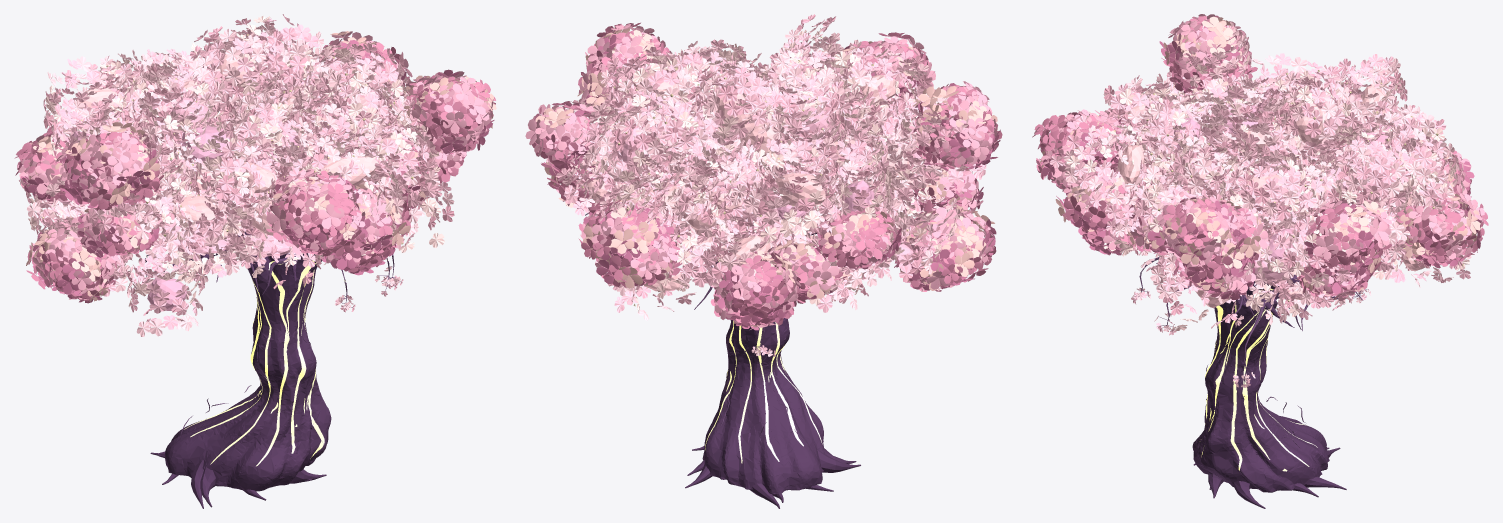
File: sakura_hero_r18a.glb
3 renders of one model, left to right at view 1: azimuth 30°, elevation 25°; view 2: azimuth 150°, elevation 25°; view 3: azimuth 270°, elevation 25°, orthographic. The views are drawn at different scales.
Parts seen in each view (by area): view 1: Sakura_petal_pink, R17b_outer_quality, Sakura_petal_blush, Trunk_bark_plumblack, Sakura_petal_warm_rose, Sakura_petal_cream, R17b_skirt_quality, R17b_bridge_quality, Canopy_peach, R18a_Surface_Gold_Inlays_quality, Canopy_depth_rose, Canopy_rose (+1 smaller); view 2: R17b_outer_quality, Sakura_petal_pink, Sakura_petal_blush, Trunk_bark_plumblack, Sakura_petal_warm_rose, Sakura_petal_cream, R17b_bridge_quality, Canopy_peach, R17b_skirt_quality, R18a_Surface_Gold_Inlays_quality, Canopy_rose, Canopy_depth_rose; view 3: Sakura_petal_pink, Sakura_petal_blush, R17b_outer_quality, Trunk_bark_plumblack, Sakura_petal_warm_rose, Sakura_petal_cream, R17b_bridge_quality, Canopy_peach, R17b_skirt_quality, R18a_Surface_Gold_Inlays_quality, Canopy_depth_rose, Branches_plum (+1 smaller).
Part boxes in pixels (bbox=[...]): Sakura_petal_pink: bbox=[19, 14, 451, 327]; R17b_outer_quality: bbox=[14, 31, 496, 295]; Sakura_petal_blush: bbox=[26, 23, 454, 336]; Trunk_bark_plumblack: bbox=[150, 232, 331, 508]; Sakura_petal_warm_rose: bbox=[31, 18, 454, 329]; Sakura_petal_cream: bbox=[28, 15, 453, 306]; R17b_skirt_quality: bbox=[61, 145, 466, 303]; R17b_bridge_quality: bbox=[55, 75, 466, 279]; Canopy_peach: bbox=[64, 54, 412, 238]; R18a_Surface_Gold_Inlays_quality: bbox=[184, 253, 324, 466]; Canopy_depth_rose: bbox=[72, 81, 299, 310]; Canopy_rose: bbox=[57, 51, 393, 256]; R17b_outer_quality: bbox=[525, 22, 1002, 326]; Sakura_petal_pink: bbox=[546, 19, 986, 357]; Sakura_petal_blush: bbox=[553, 22, 969, 356]; Trunk_bark_plumblack: bbox=[685, 231, 860, 508]; Sakura_petal_warm_rose: bbox=[555, 14, 971, 299]; Sakura_petal_cream: bbox=[542, 28, 972, 312]; R17b_bridge_quality: bbox=[561, 41, 980, 303]; Canopy_peach: bbox=[585, 64, 937, 291]; R17b_skirt_quality: bbox=[556, 167, 983, 330]; R18a_Surface_Gold_Inlays_quality: bbox=[705, 260, 822, 463]; Canopy_rose: bbox=[614, 107, 932, 256]; Canopy_depth_rose: bbox=[715, 72, 874, 219]; Sakura_petal_pink: bbox=[1049, 29, 1470, 387]; Sakura_petal_blush: bbox=[1063, 22, 1475, 387]; R17b_outer_quality: bbox=[1032, 14, 1488, 286]; Trunk_bark_plumblack: bbox=[1156, 263, 1346, 508]; Sakura_petal_warm_rose: bbox=[1066, 19, 1464, 323]; Sakura_petal_cream: bbox=[1066, 42, 1469, 331]; R17b_bridge_quality: bbox=[1061, 43, 1466, 282]; Canopy_peach: bbox=[1105, 59, 1425, 308]; R17b_skirt_quality: bbox=[1078, 200, 1390, 300]; R18a_Surface_Gold_Inlays_quality: bbox=[1201, 288, 1317, 470]; Canopy_depth_rose: bbox=[1174, 104, 1394, 259]; Branches_plum: bbox=[1139, 257, 1363, 448].
Size of the model in its own units: 28.67 by 27 by 27.84.
